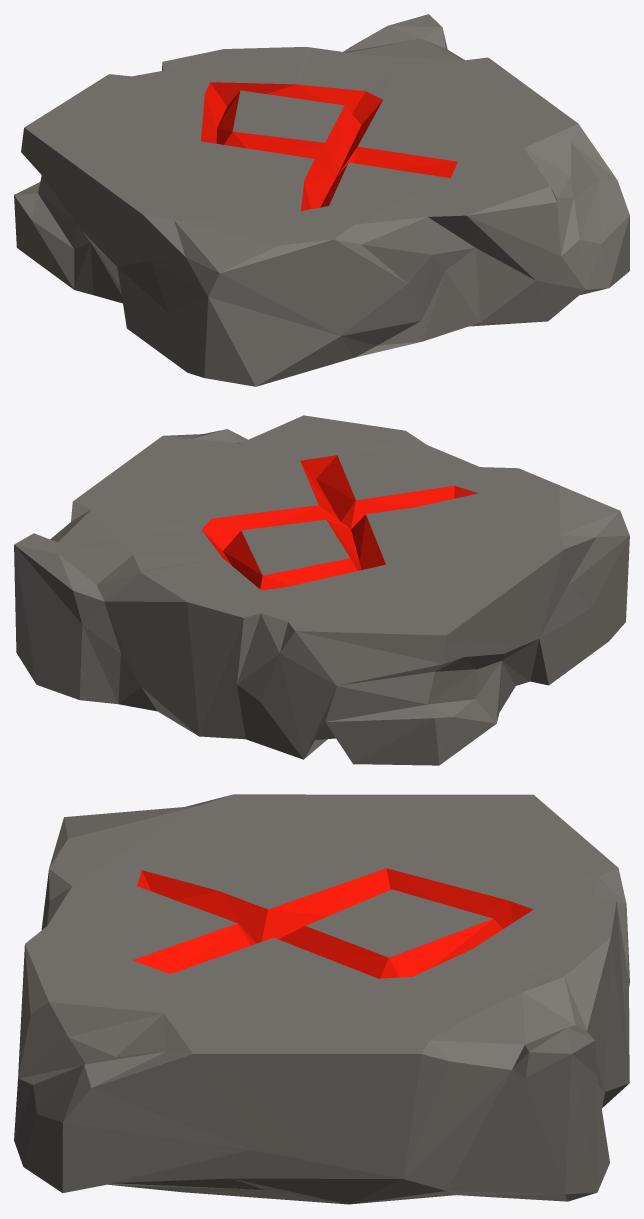
File: SM_Env_Rune_Square_03.glb
The picture shows the model from 3 angles, top to bottom: view 1: azimuth 30°, elevation 25°; view 2: azimuth 150°, elevation 25°; view 3: azimuth 270°, elevation 25°; orthographic projection. The views are drawn at different scales.
Parts seen in each view (by area): view 1: SM_Env_Rune_Square_03; view 2: SM_Env_Rune_Square_03; view 3: SM_Env_Rune_Square_03.
Boxes of the visible parts, x1,y1,x2,y2 form: SM_Env_Rune_Square_03: (14, 14, 629, 386); SM_Env_Rune_Square_03: (14, 415, 629, 765); SM_Env_Rune_Square_03: (14, 794, 629, 1204).
Size of the model in its own units: 0.00959 by 0.00274 by 0.00962.
Materials: 1 (1 with a texture image).
